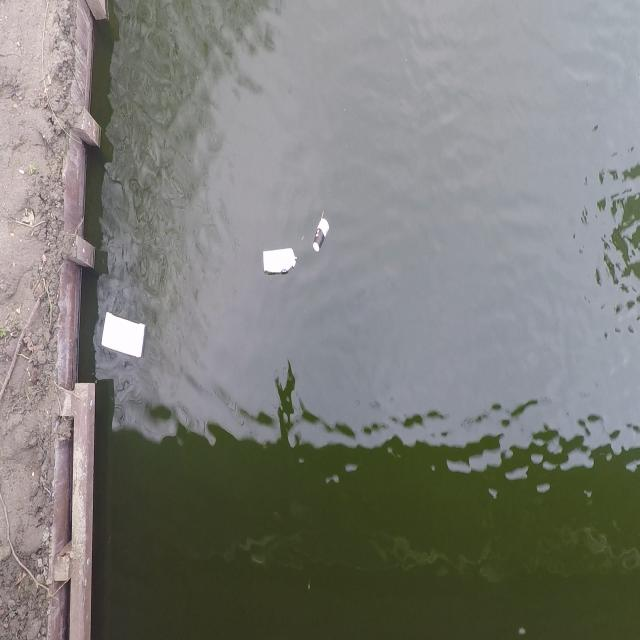Autre plastique: (94, 300, 149, 366), (260, 246, 300, 278)
Non plastique: (312, 212, 330, 256)
